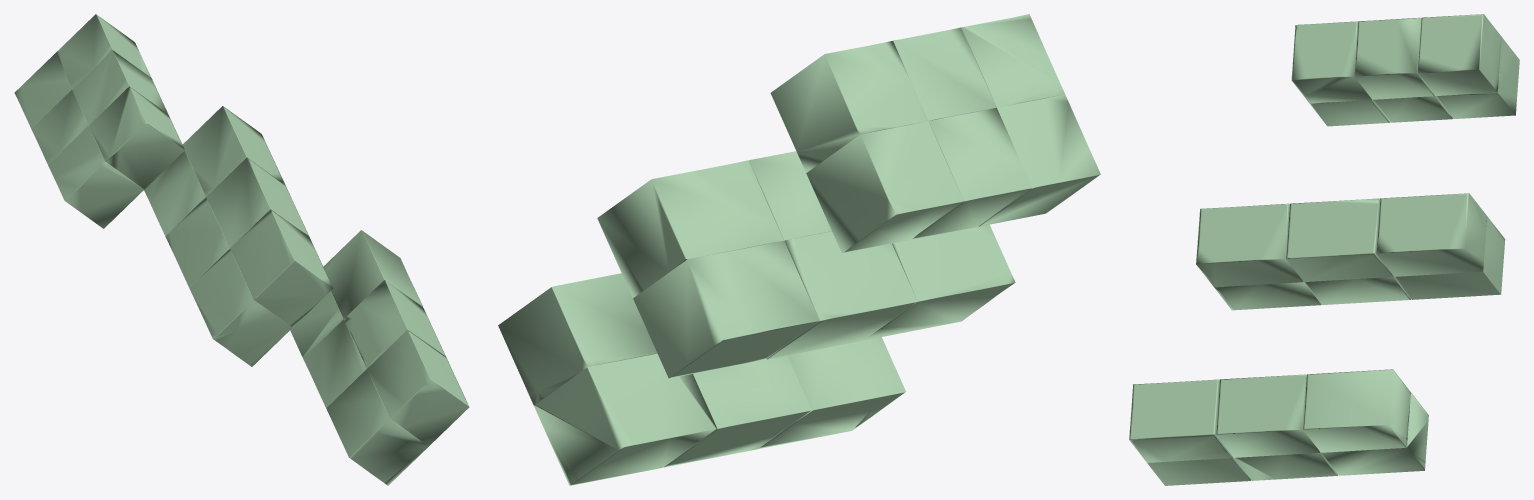
Rendered from VHM_Spleen_Extraction_Sites_2x3.fbx.
3 views of the same model, side by side, from view 1: azimuth 30°, elevation 25°; view 2: azimuth 150°, elevation 25°; view 3: azimuth 270°, elevation 25° (orthographic). The views are drawn at different scales.
Visible parts, largest first — view 1: VHM_CC2_1_2x3, VHM_CC3_1_2x3, VHM_CC1_1_2x3, VHM_CC2_4_2x3, VHM_CC3_4_2x3, VHM_CC1_4_2x3, VHM_CC2_2_2x3, VHM_CC2_3_2x3, VHM_CC3_2_2x3, VHM_CC3_3_2x3, VHM_CC1_3_2x3, VHM_CC1_2_2x3 (+6 smaller); view 2: VHM_CC2_6_2x3, VHM_CC3_6_2x3, VHM_CC2_3_2x3, VHM_CC1_6_2x3, VHM_CC3_3_2x3, VHM_CC1_3_2x3, VHM_CC2_5_2x3, VHM_CC2_4_2x3, VHM_CC3_5_2x3, VHM_CC3_4_2x3, VHM_CC1_5_2x3, VHM_CC1_4_2x3 (+3 smaller); view 3: VHM_CC2_3_2x3, VHM_CC3_3_2x3, VHM_CC2_2_2x3, VHM_CC2_1_2x3, VHM_CC3_2_2x3, VHM_CC3_1_2x3, VHM_CC1_3_2x3, VHM_CC1_2_2x3, VHM_CC1_1_2x3, VHM_CC2_6_2x3, VHM_CC3_6_2x3, VHM_CC1_6_2x3 (+6 smaller).
Part boxes in pixels (x1,y1,x2,y2): VHM_CC2_1_2x3: (230, 209, 333, 327); VHM_CC3_1_2x3: (367, 330, 469, 446); VHM_CC1_1_2x3: (89, 86, 184, 189); VHM_CC2_4_2x3: (189, 249, 292, 366); VHM_CC3_4_2x3: (326, 369, 428, 485); VHM_CC1_4_2x3: (48, 126, 144, 228); VHM_CC2_2_2x3: (206, 157, 309, 247); VHM_CC2_3_2x3: (182, 106, 285, 196); VHM_CC3_2_2x3: (344, 280, 445, 368); VHM_CC3_3_2x3: (323, 230, 423, 318); VHM_CC1_3_2x3: (55, 14, 151, 88); VHM_CC1_2_2x3: (72, 50, 167, 124); VHM_CC2_6_2x3: (633, 240, 819, 378); VHM_CC3_6_2x3: (534, 353, 717, 485); VHM_CC2_3_2x3: (597, 160, 783, 297); VHM_CC1_6_2x3: (806, 121, 963, 253); VHM_CC3_3_2x3: (498, 273, 657, 405); VHM_CC1_3_2x3: (770, 41, 927, 172); VHM_CC2_5_2x3: (767, 231, 917, 359); VHM_CC2_4_2x3: (864, 224, 1015, 340); VHM_CC3_5_2x3: (664, 355, 811, 467); VHM_CC3_4_2x3: (758, 337, 905, 448); VHM_CC1_5_2x3: (910, 107, 1032, 239); VHM_CC1_4_2x3: (979, 94, 1100, 226); VHM_CC2_3_2x3: (1376, 193, 1487, 276); VHM_CC3_3_2x3: (1303, 369, 1410, 452); VHM_CC2_2_2x3: (1286, 198, 1393, 281); VHM_CC2_1_2x3: (1196, 203, 1303, 287); VHM_CC3_2_2x3: (1216, 374, 1319, 457); VHM_CC3_1_2x3: (1129, 379, 1232, 462); VHM_CC1_3_2x3: (1417, 14, 1501, 95); VHM_CC1_2_2x3: (1354, 17, 1434, 99); VHM_CC1_1_2x3: (1291, 21, 1371, 103); VHM_CC2_6_2x3: (1394, 216, 1505, 299); VHM_CC3_6_2x3: (1321, 392, 1428, 475); VHM_CC1_6_2x3: (1435, 37, 1519, 118).
Size of the model in its own units: 7.97 by 8.2 by 7.2.
